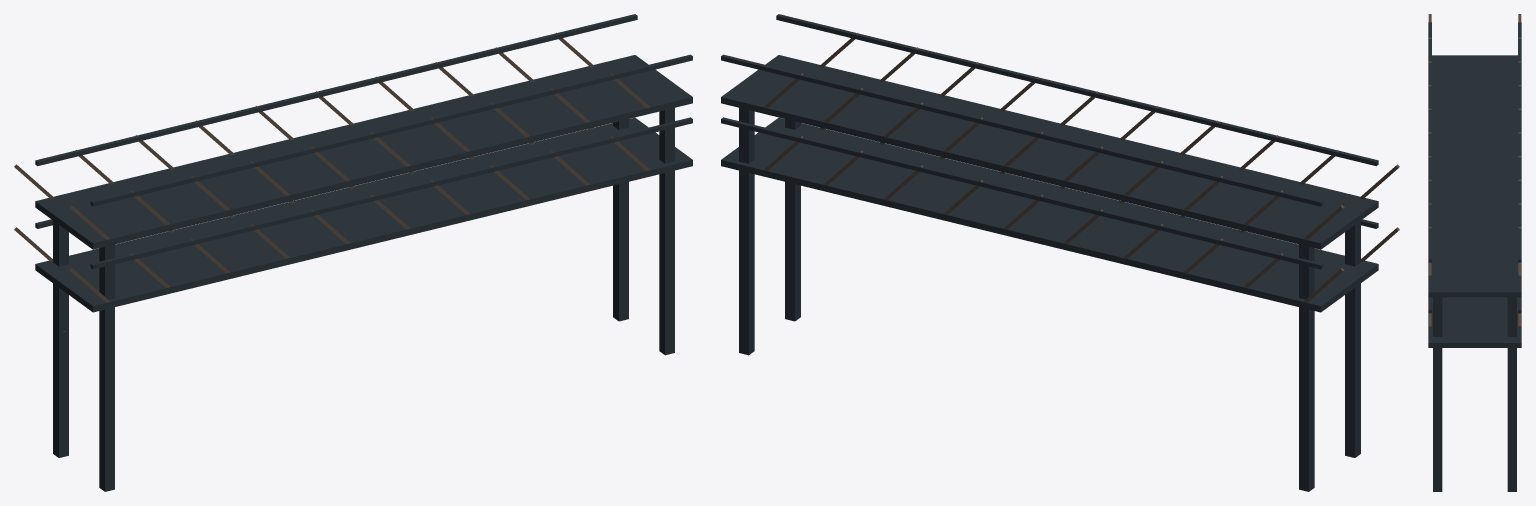
The model's file is ore-bridge-3.glb.
3 renders of one model, left to right at view 1: azimuth 30°, elevation 25°; view 2: azimuth 150°, elevation 25°; view 3: azimuth 270°, elevation 25°, orthographic. The views are drawn at different scales.
Parts seen in each view (by area): view 1: ore-bridge/2/KR-230-3; view 2: ore-bridge/2/KR-230-3; view 3: ore-bridge/2/KR-230-3.
Boxes of the visible parts, x1,y1,x2,y2 form: ore-bridge/2/KR-230-3: (14, 14, 692, 491); ore-bridge/2/KR-230-3: (721, 14, 1399, 491); ore-bridge/2/KR-230-3: (1428, 14, 1521, 491).
Size of the model in its own units: 31.08 by 14.15 by 5.
